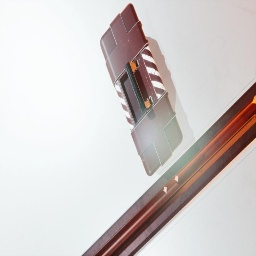FirstAidBox ,: (100, 3, 183, 176)
